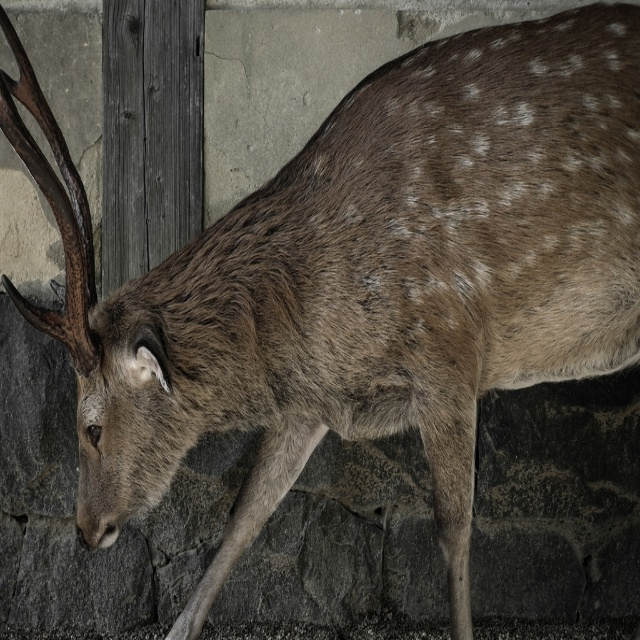Deer: (0, 3, 640, 640)
